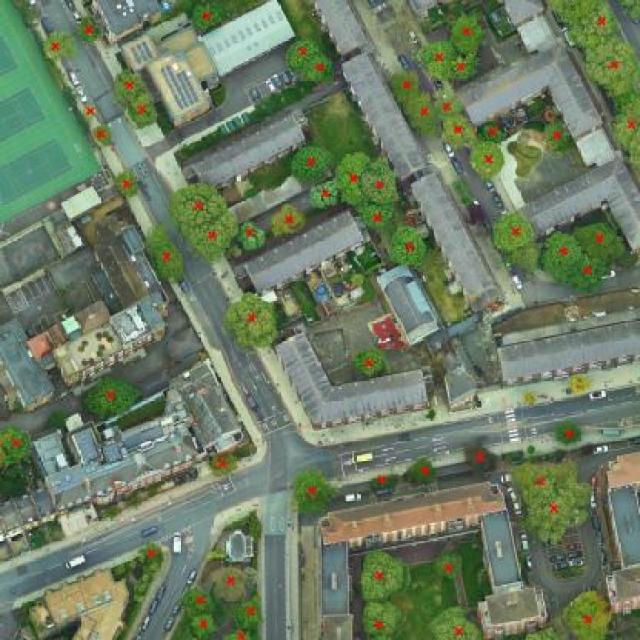tree: (518, 483, 598, 552), (346, 542, 425, 602), (217, 288, 286, 355), (542, 0, 626, 48), (163, 180, 242, 229), (136, 223, 192, 291), (586, 34, 640, 104), (284, 465, 345, 524), (507, 452, 593, 493), (80, 372, 146, 425), (182, 212, 245, 266), (562, 581, 616, 640), (483, 205, 540, 258), (570, 218, 633, 265), (356, 155, 409, 207), (179, 0, 244, 42), (384, 222, 434, 276), (541, 228, 585, 289), (284, 140, 339, 188), (353, 595, 409, 640), (334, 144, 372, 210), (423, 601, 487, 640), (611, 91, 640, 174), (566, 250, 612, 301), (402, 87, 444, 142), (107, 65, 162, 106), (0, 423, 45, 471), (448, 10, 492, 59), (460, 436, 506, 482), (413, 39, 458, 86), (262, 201, 310, 245), (437, 110, 481, 155), (282, 36, 335, 73), (229, 217, 273, 260), (428, 544, 472, 587), (210, 560, 248, 608), (125, 95, 169, 136), (356, 196, 401, 236), (302, 176, 346, 216), (467, 140, 510, 180), (536, 119, 582, 156), (347, 345, 391, 383), (232, 591, 272, 632), (400, 452, 443, 490), (384, 62, 425, 101), (36, 29, 78, 66), (179, 581, 223, 616), (71, 15, 111, 53), (201, 448, 245, 482), (178, 606, 222, 640), (300, 55, 345, 87), (443, 50, 488, 82), (552, 412, 588, 452), (108, 167, 149, 202), (473, 117, 513, 146), (430, 90, 465, 122), (362, 470, 404, 496), (134, 538, 169, 568), (522, 620, 572, 640), (85, 123, 120, 151), (564, 371, 593, 398), (76, 98, 102, 125), (218, 626, 265, 640), (620, 0, 640, 28)
